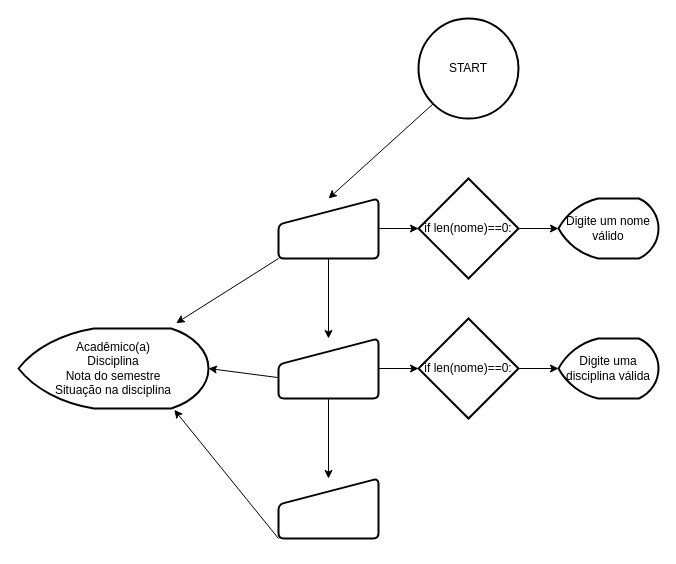
The diagram is 676 pixels wide and 564 high, and some of its shapes have lost their labels. The shapes that lost their labels are listed below. From the top down, each one's centre as x and y in pixels, then its label:
[328,228]: nome
[328,368]: disciplina
[328,508]: nota
